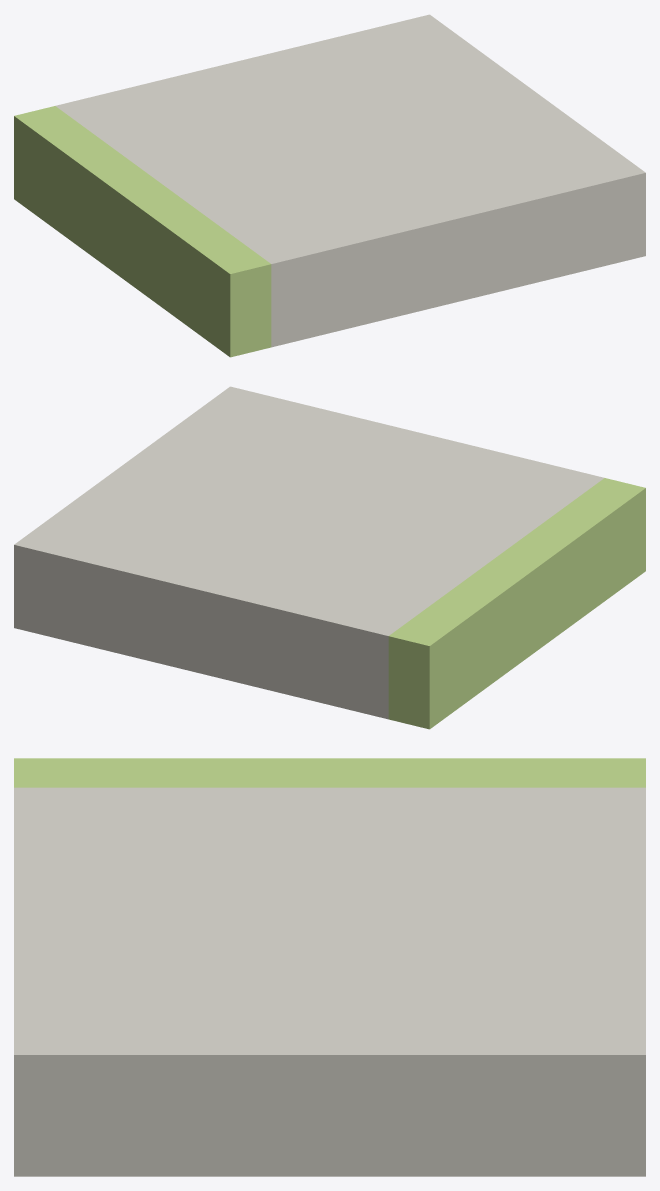
File: building_019.glb
3 renders of one model, top to bottom at view 1: azimuth 30°, elevation 25°; view 2: azimuth 150°, elevation 25°; view 3: azimuth 270°, elevation 25°, orthographic. The views are drawn at different scales.
Parts seen in each view (by area): view 1: building_019; view 2: building_019; view 3: building_019.
Part boxes in pixels (<box>): building_019: <box>14,14,645,357</box>; building_019: <box>14,386,645,729</box>; building_019: <box>14,758,645,1176</box>.
Size of the model in its own units: 1.11 by 0.2125 by 1.
